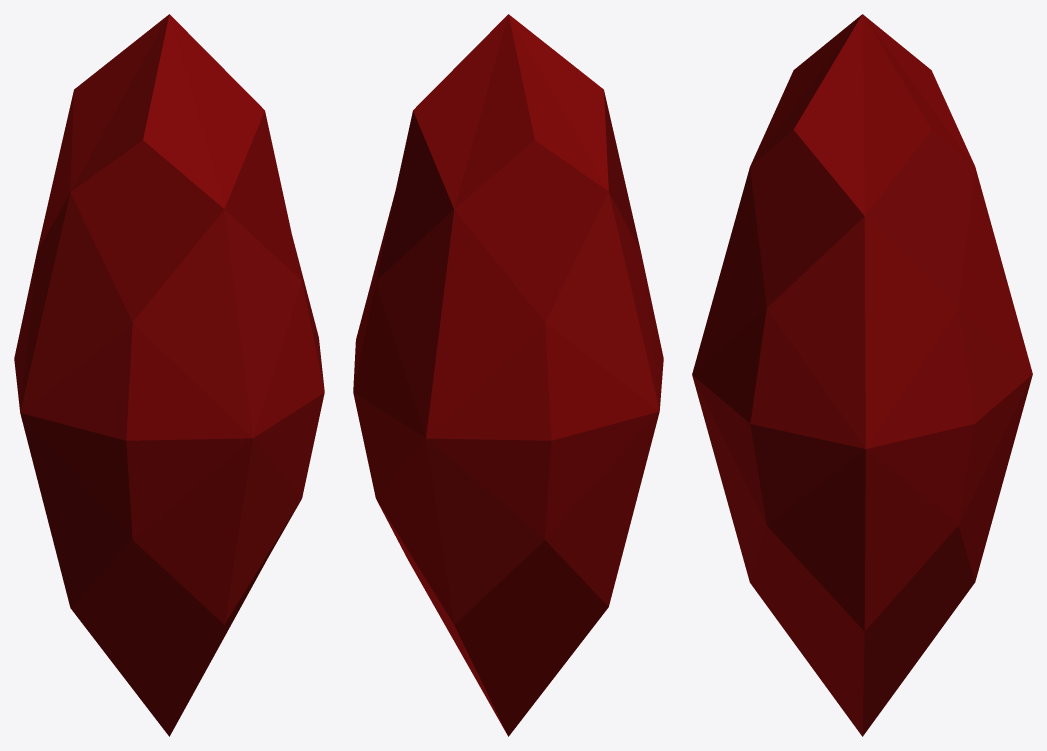
File: Mana Stone.fbx
3 views of the same model, side by side, from view 1: azimuth 30°, elevation 25°; view 2: azimuth 150°, elevation 25°; view 3: azimuth 270°, elevation 25° (orthographic).
Visible parts, largest first — view 1: Box003; view 2: Box003; view 3: Box003.
Part boxes in pixels (x1,y1,x2,y2): Box003: (14, 14, 324, 736); Box003: (353, 14, 663, 736); Box003: (692, 14, 1032, 736).
Size of the model in its own units: 11.37 by 26.06 by 11.14.
